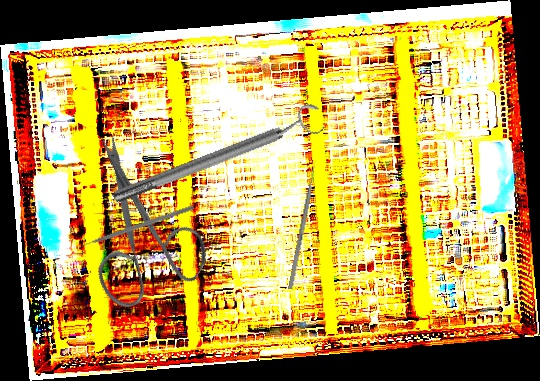Chopper: (73, 199, 195, 250)
Fixation Ring: (107, 100, 328, 213)
Iris Scissors: (30, 128, 239, 333)
Pusher: (287, 159, 319, 290)
